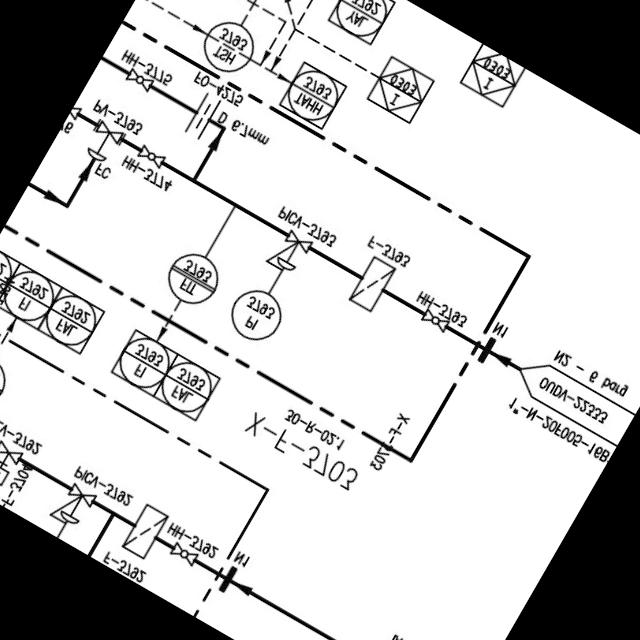BV2: (131, 141, 170, 175), (416, 305, 454, 339), (120, 64, 158, 98), (166, 540, 200, 570)
F2: (343, 252, 400, 318), (118, 500, 174, 564)
FC: (78, 117, 128, 171)
O: (177, 88, 227, 147)
PCV: (259, 223, 318, 284), (44, 477, 102, 538)
SV: (0, 437, 27, 492)
